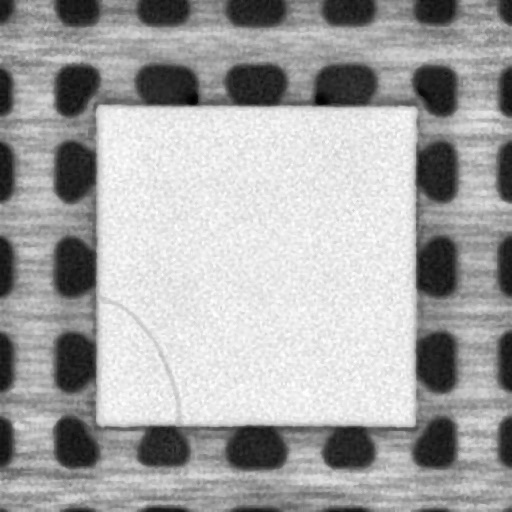DIE_CRACK: (100, 294, 182, 423)
